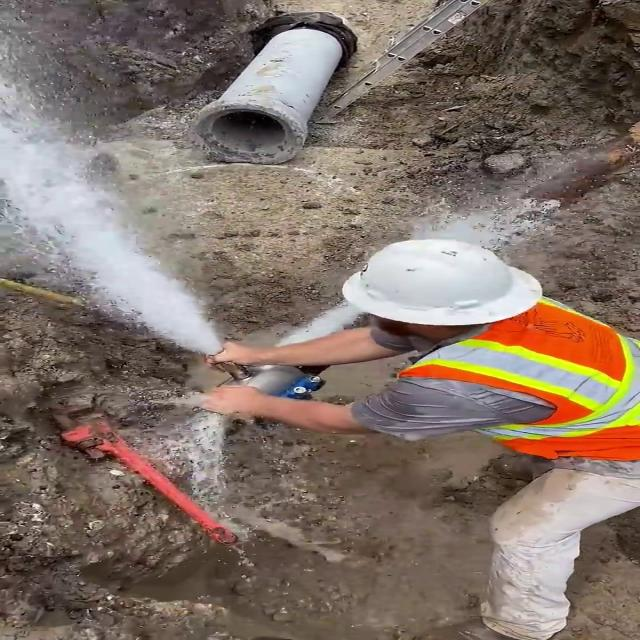leak: (0, 58, 234, 358), (270, 187, 589, 347)
